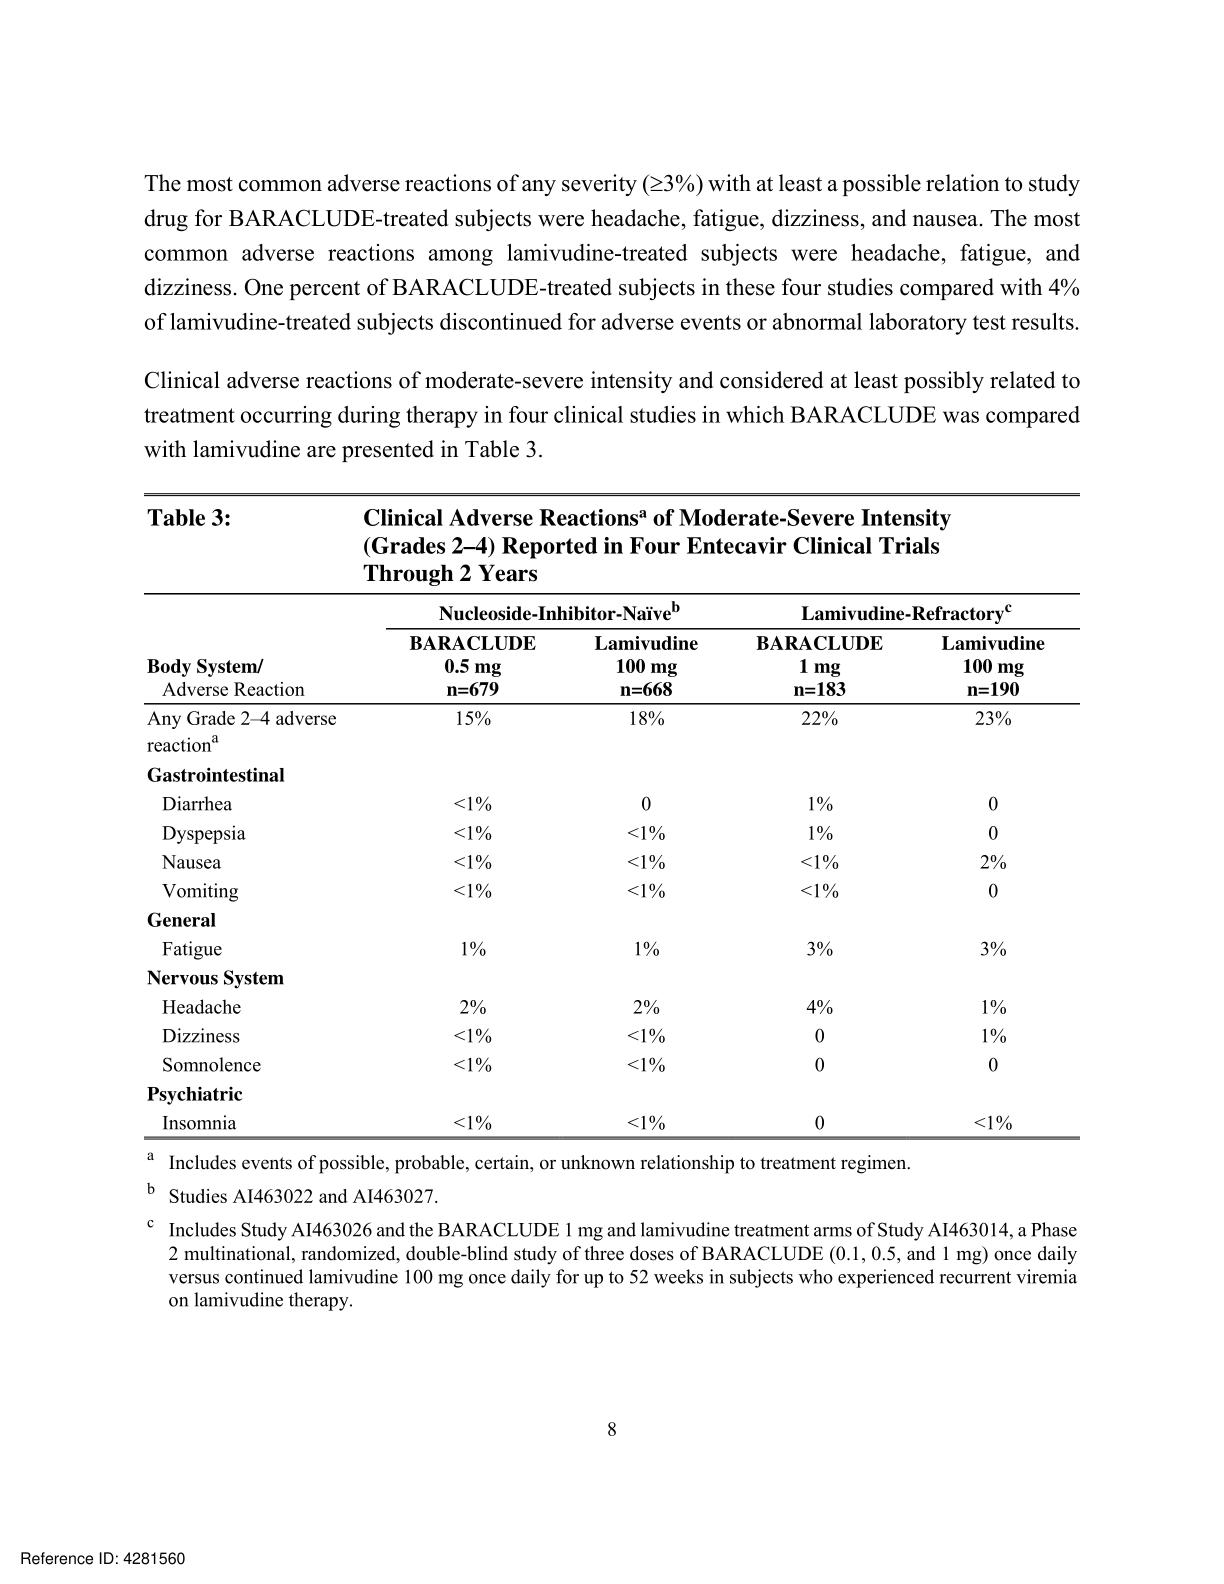partial_lined_merged_cells: (141, 492, 1081, 1140)
